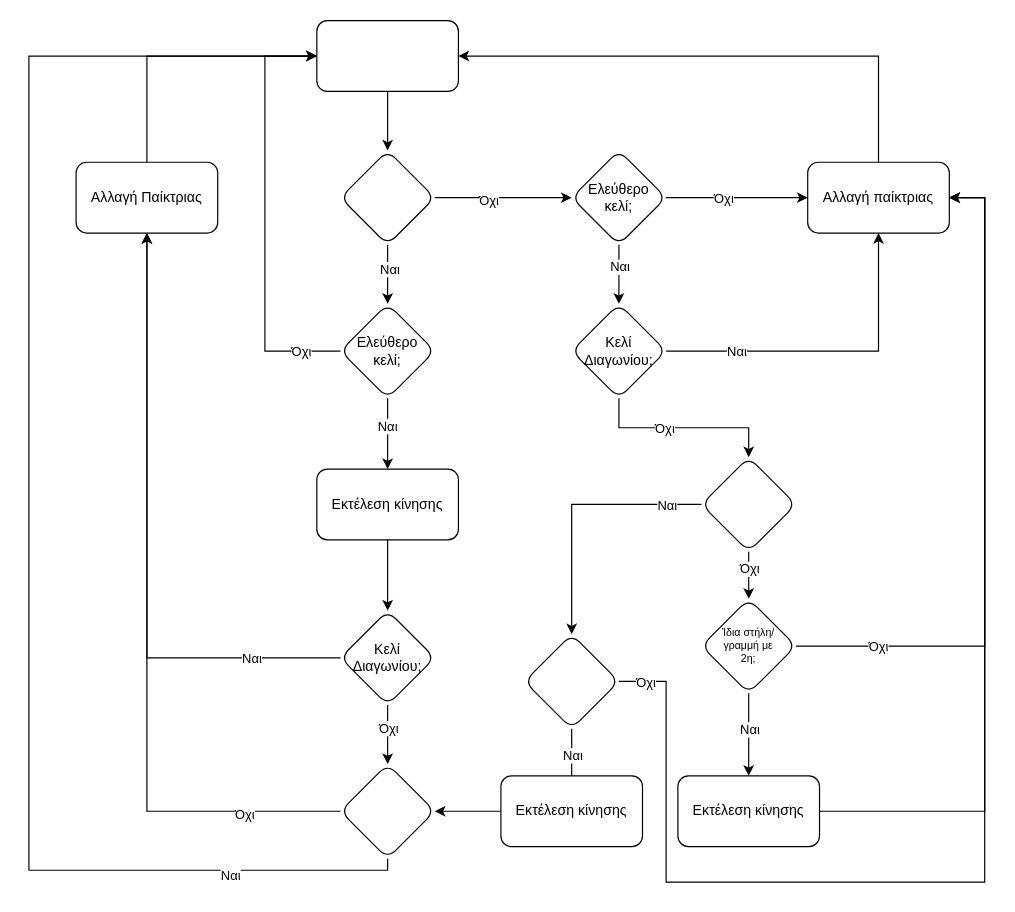
This 1015x912 diagram has some shape labels left out. The centre of each missing label's shape, as x and y in pixels:
"1η Κίνηση;" goes at point (387, 197).
"2η Κίνηση;" goes at point (748, 504).
"Ίδια γραμμή ή στήλη με 1η;" goes at point (571, 681).
"Κίνηση Παίκτριας" goes at point (387, 55).
"Ξαναπαίζει;" goes at point (387, 810).
